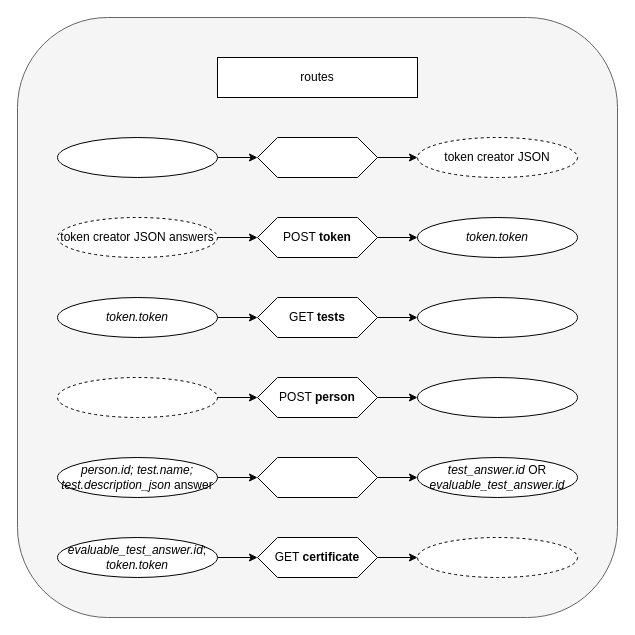
This 635x635 diagram has some shape labels left out. Here are the shapes that lost their labels. From the top down, the box of each, then its label:
(256, 136, 378, 178): GET token-creator
(416, 296, 578, 338): [ test.name , test.description_json ]
(56, 376, 218, 418): test.description_json answer
(416, 376, 578, 418): person.id
(256, 456, 378, 498): POST test-answer
(416, 536, 578, 578): Result Certificate (PDF)
